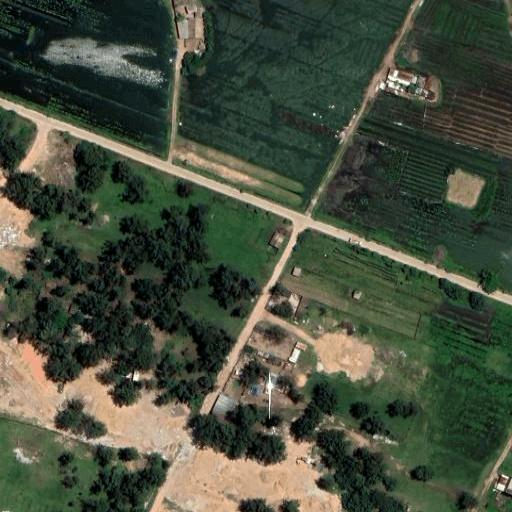building: (203, 390, 238, 426), (500, 470, 512, 491)
